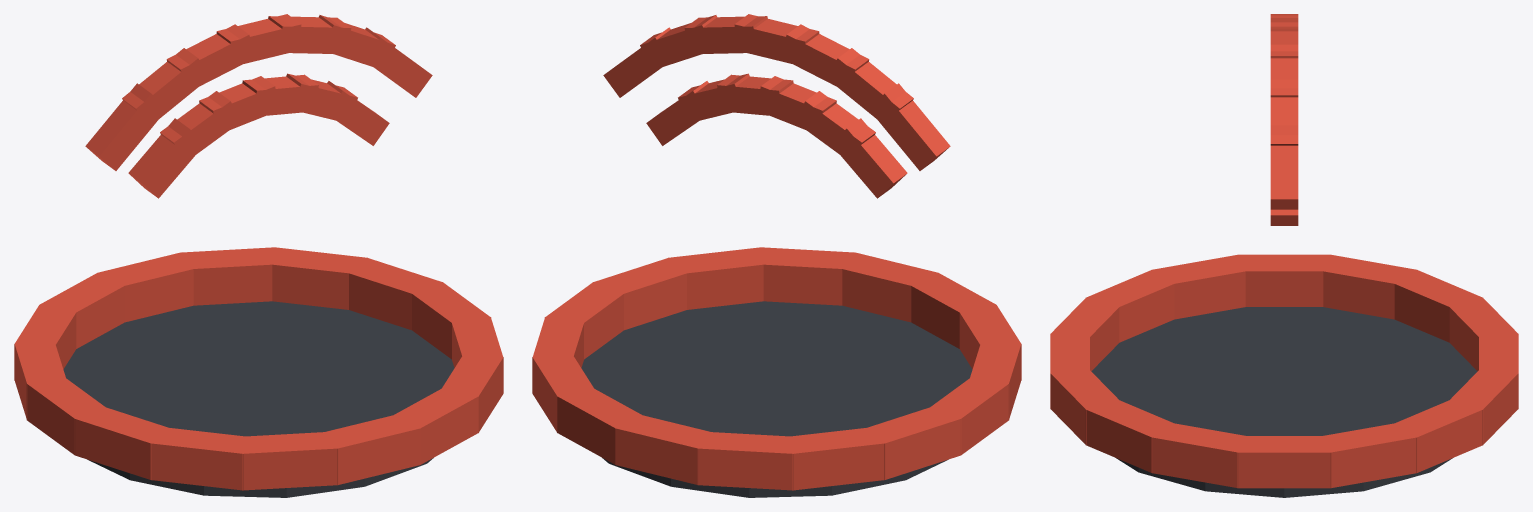
Rendered from pomodoro_m1_1.glb.
3 renders of one model, left to right at view 1: azimuth 30°, elevation 25°; view 2: azimuth 150°, elevation 25°; view 3: azimuth 270°, elevation 25°, orthographic. The views are drawn at different scales.
Parts seen in each view (by area): view 1: pomodoro_m1_1_mesh; view 2: pomodoro_m1_1_mesh; view 3: pomodoro_m1_1_mesh.
Part boxes in pixels (left/top/right/bottom): pomodoro_m1_1_mesh: left=14, top=14, right=503, bottom=497; pomodoro_m1_1_mesh: left=532, top=14, right=1021, bottom=497; pomodoro_m1_1_mesh: left=1050, top=14, right=1518, bottom=497.
Size of the model in its own units: 0.5946 by 0.5237 by 0.5946.
